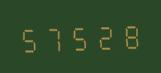eight: (118, 18, 142, 50)
five: (18, 22, 42, 54), (68, 20, 92, 52)
seven: (43, 21, 67, 53)
two: (93, 19, 117, 51)
